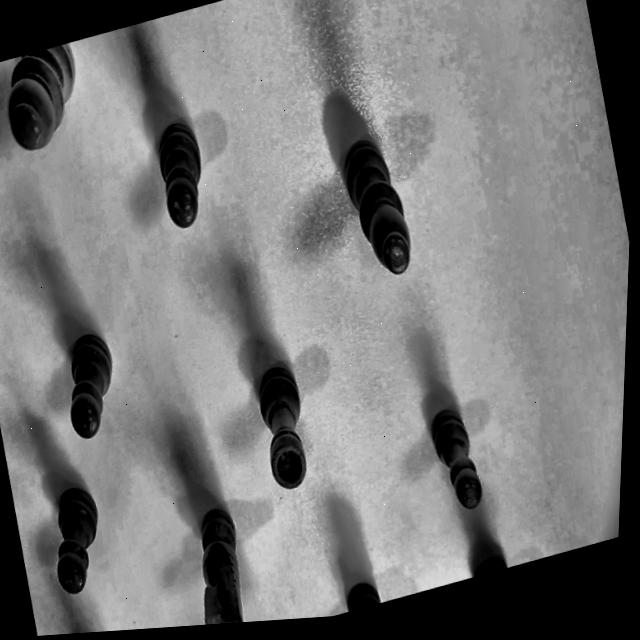black-bishop: (322, 106, 430, 308), (0, 35, 112, 201)
black-knight: (169, 467, 275, 627)
black-pawn: (402, 359, 507, 541), (127, 92, 235, 255), (42, 301, 150, 461), (27, 459, 136, 617)
black-rook: (234, 334, 334, 499)
